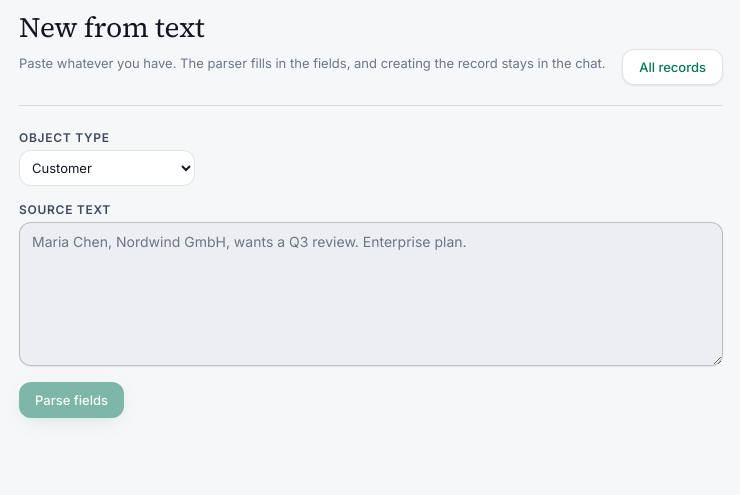
Test: /records/new › relays a failed parse as an alert with no hand-off
Replace the text in the text box labelled "Source text" with "Maria Chen at Nordwind GmbH" at [371, 294], box [19,222,723,366]
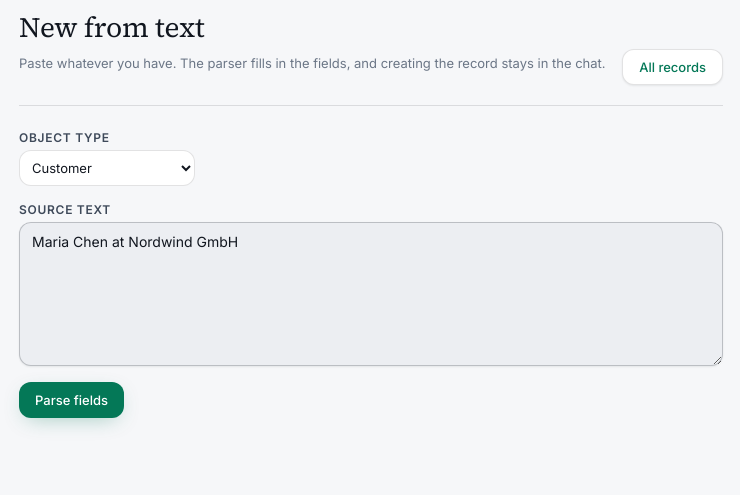
Click the button "Parse fields" at [72, 400], box [19,382,124,418]
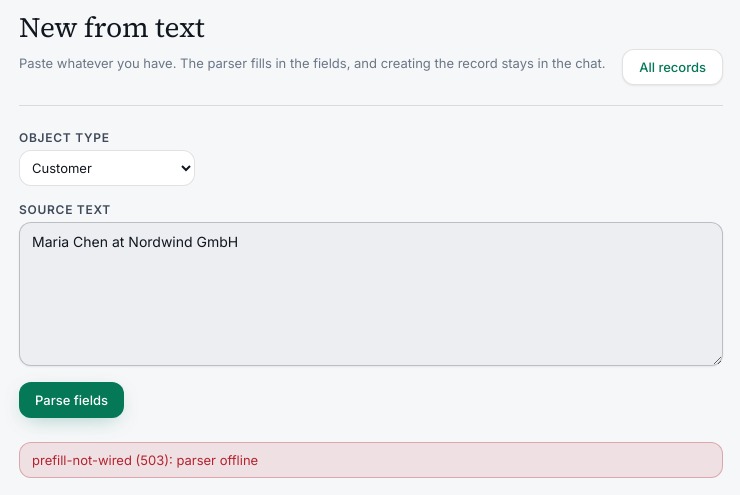
Check: the message shows "parser offline", box [32,452,258,468]
